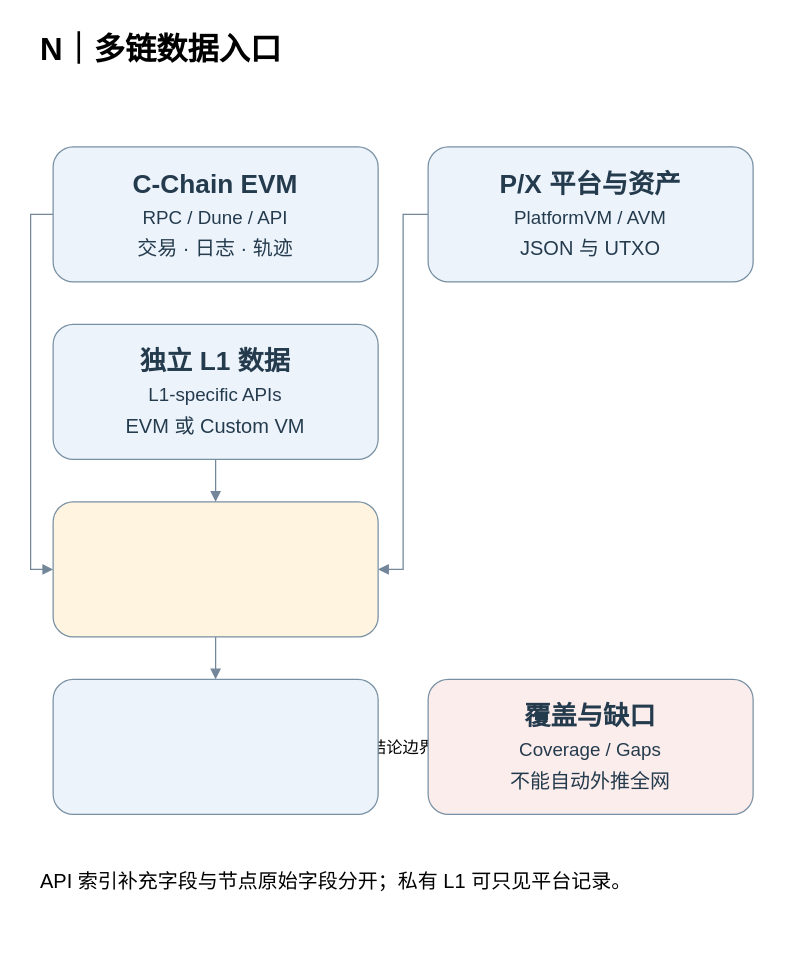
Image size: 790x969. Some labels were removed from this diagram. Each missing label, with the centre of its shape:
"原始资料归档 Raw Evidence 请求、来源、时间" goes at (215,569).
"规范化与分析 Normalization 身份 · 单位 · 粒度" goes at (215,746).
